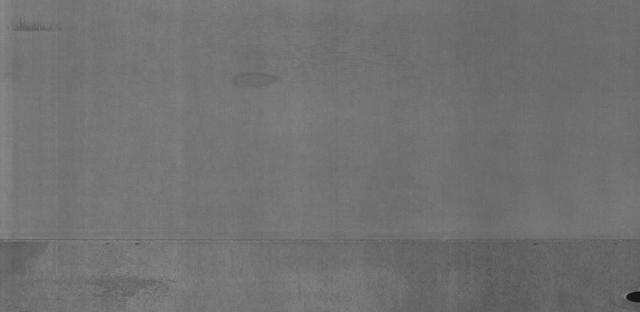oil_spot: (230, 65, 280, 89), (2, 21, 68, 36)
punching_hole: (618, 289, 640, 304)
welding_line: (2, 227, 640, 252)
